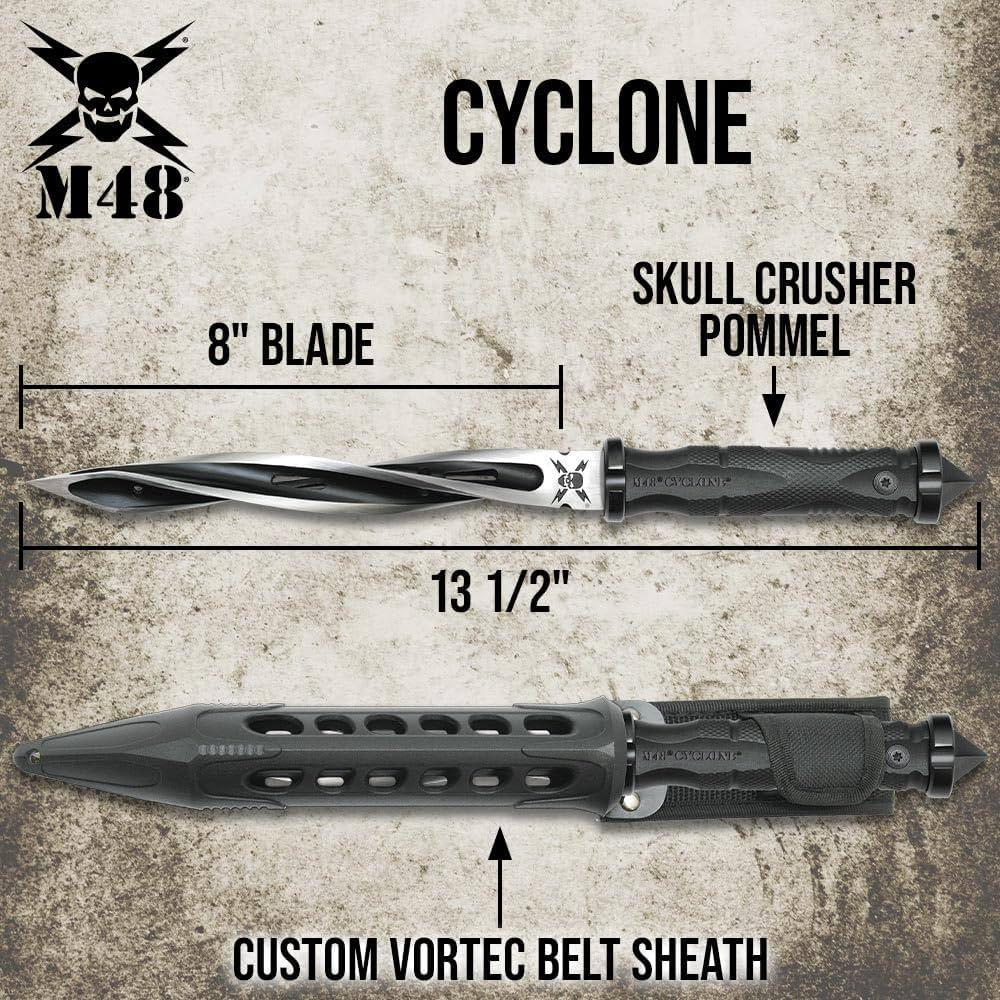Knife: (18, 422, 979, 538)
